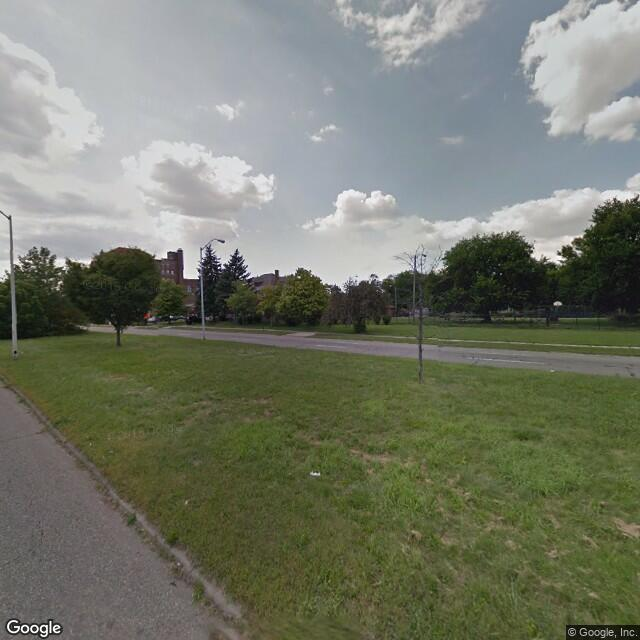litter: (183, 492, 188, 509), (313, 473, 318, 481), (550, 368, 553, 369)
